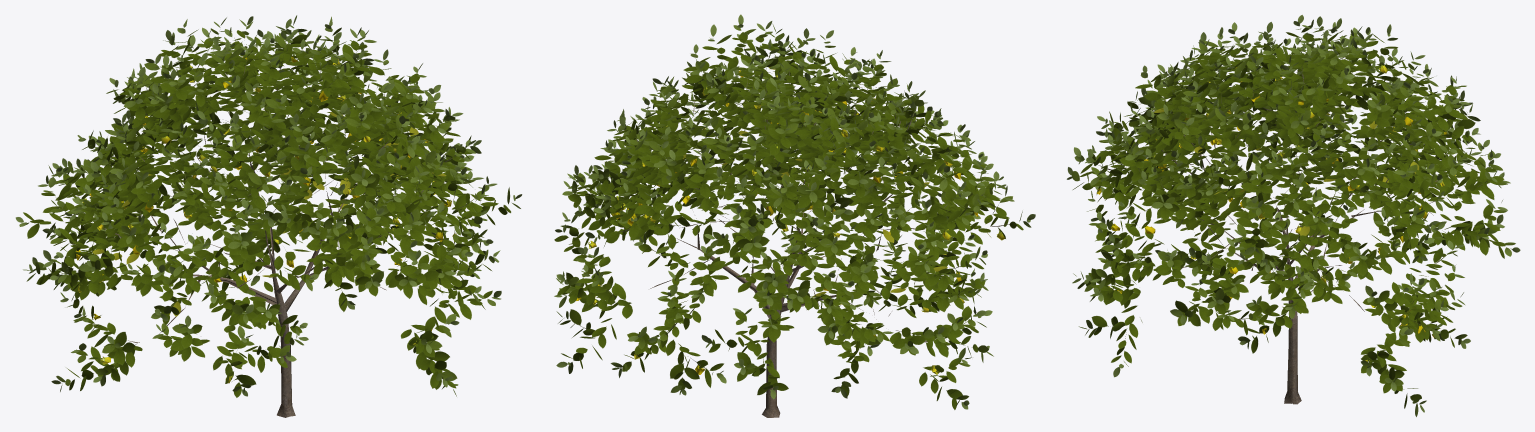
The model's file is citrus_a.glb.
3 views of the same model, side by side, from view 1: azimuth 30°, elevation 25°; view 2: azimuth 150°, elevation 25°; view 3: azimuth 270°, elevation 25° (orthographic). The views are drawn at different scales.
Visible parts, largest first — view 1: Citrus_x_limon_HD_Citrus bark_0; view 2: Citrus_x_limon_HD_Citrus bark_0; view 3: Citrus_x_limon_HD_Citrus bark_0.
Part boxes in pixels (<box>): Citrus_x_limon_HD_Citrus bark_0: <box>15,15,522,417</box>; Citrus_x_limon_HD_Citrus bark_0: <box>554,14,1035,417</box>; Citrus_x_limon_HD_Citrus bark_0: <box>1067,15,1520,416</box>.
Bounding box in the file's own units: 2.49 × 2.18 × 2.42.
Materials: 9 (9 with a texture image).
